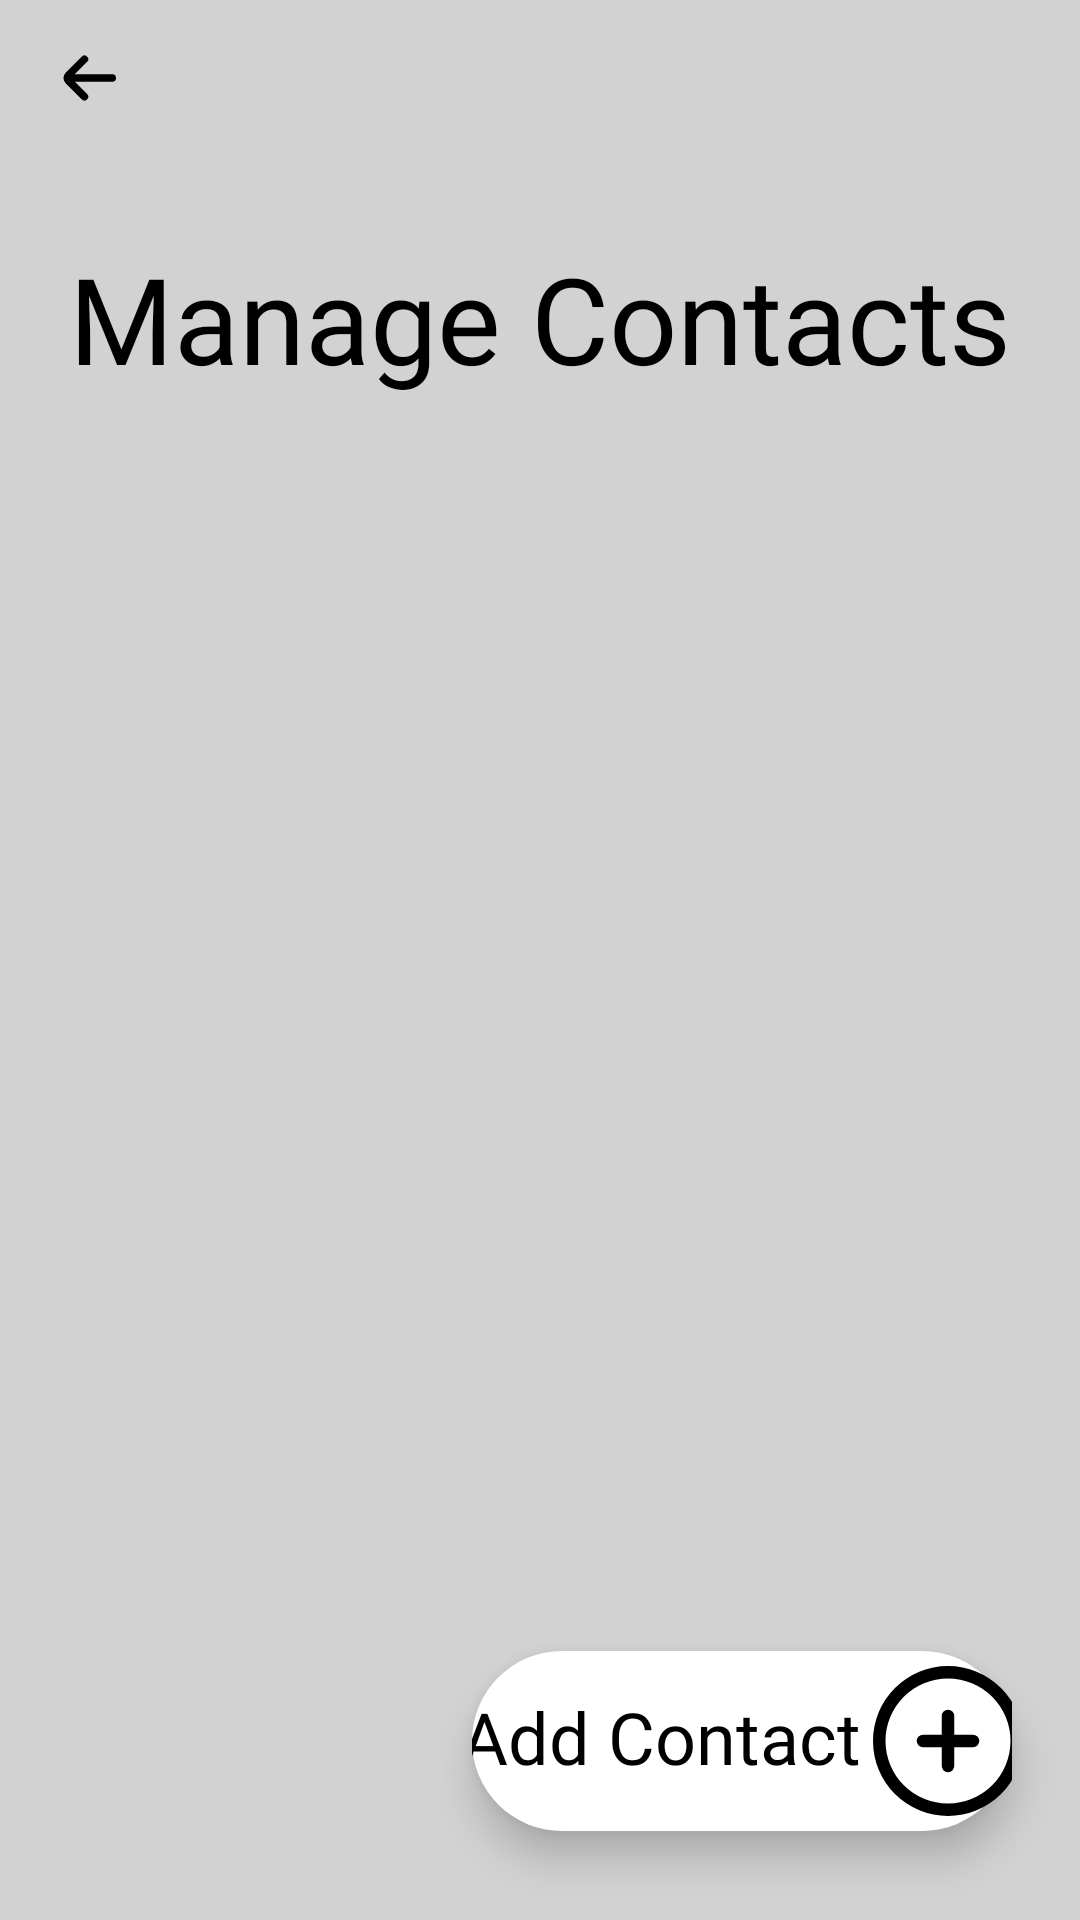

Where to tap for icons on this 1080x1920 app screen, as [x,y]:
add plus: [942,1741]
arrow left: [89,78]
